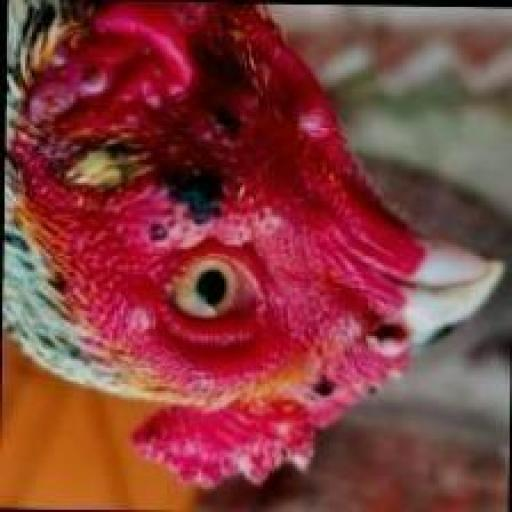disease: (115, 335, 427, 503), (51, 11, 210, 129)
